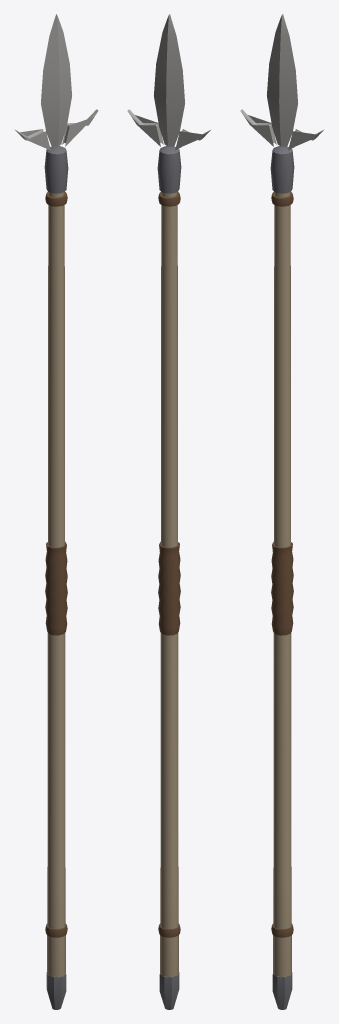
File: boar_spear.glb
The picture shows the model from 3 angles, left to right: view 1: azimuth 30°, elevation 25°; view 2: azimuth 150°, elevation 25°; view 3: azimuth 330°, elevation 25°; orthographic projection.
Visible parts, largest first — view 1: boar_spear; view 2: boar_spear; view 3: boar_spear.
Boxes of the visible parts, bbox=[...] form: boar_spear: bbox=[14, 14, 98, 1009]; boar_spear: bbox=[127, 14, 211, 1009]; boar_spear: bbox=[240, 14, 324, 1009].
Bounding box in the file's own units: 0.1974 × 2.27 × 0.047.
